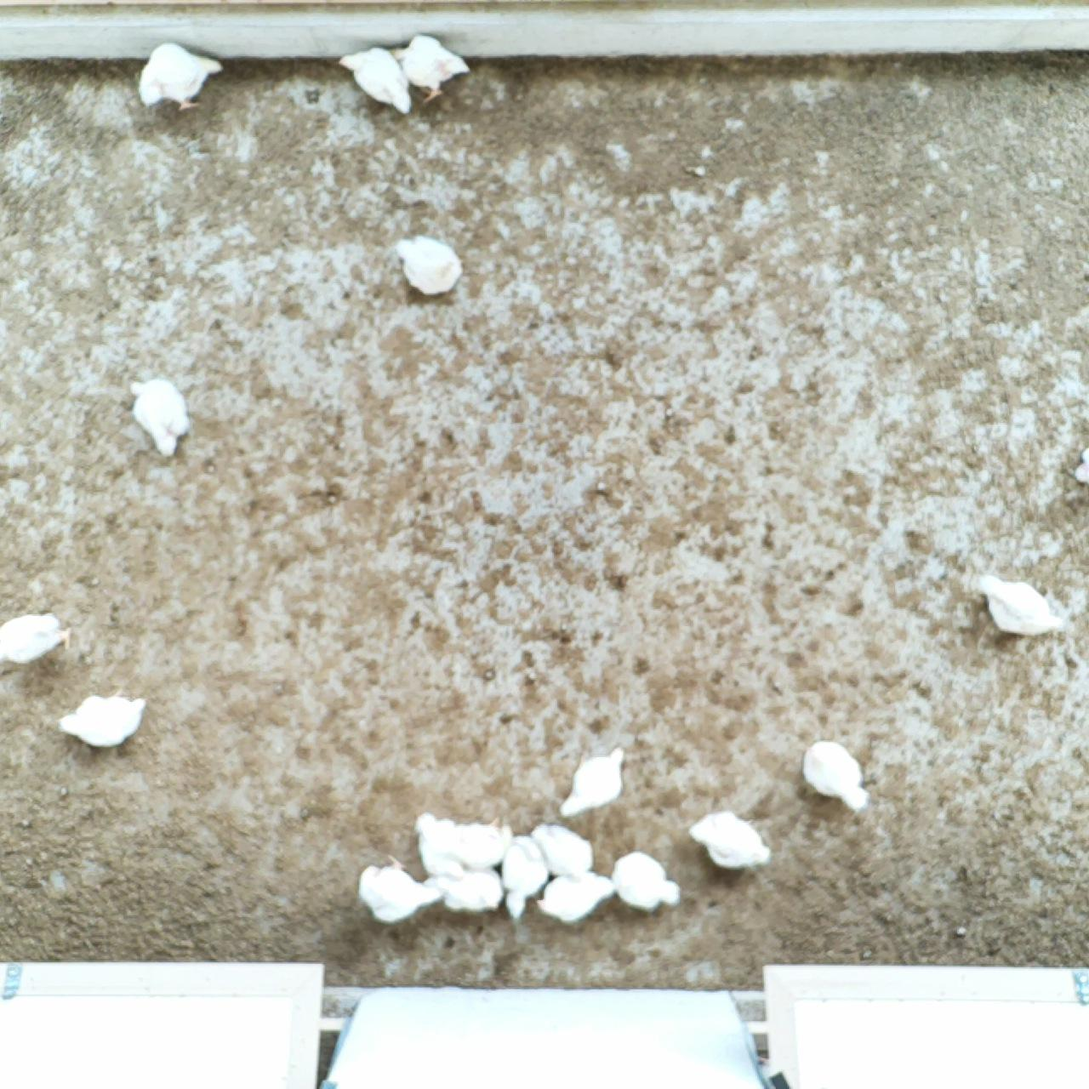chicken: (133, 39, 232, 117), (971, 567, 1068, 643), (387, 33, 476, 108), (54, 684, 148, 753), (798, 736, 875, 819), (336, 44, 416, 121), (356, 853, 441, 925), (688, 809, 776, 877), (556, 745, 631, 823), (127, 374, 192, 463), (608, 848, 685, 919), (392, 229, 469, 299), (491, 832, 549, 921), (534, 870, 618, 930), (0, 608, 76, 670), (410, 806, 467, 887), (440, 860, 509, 921), (526, 820, 598, 877), (444, 821, 517, 873)
